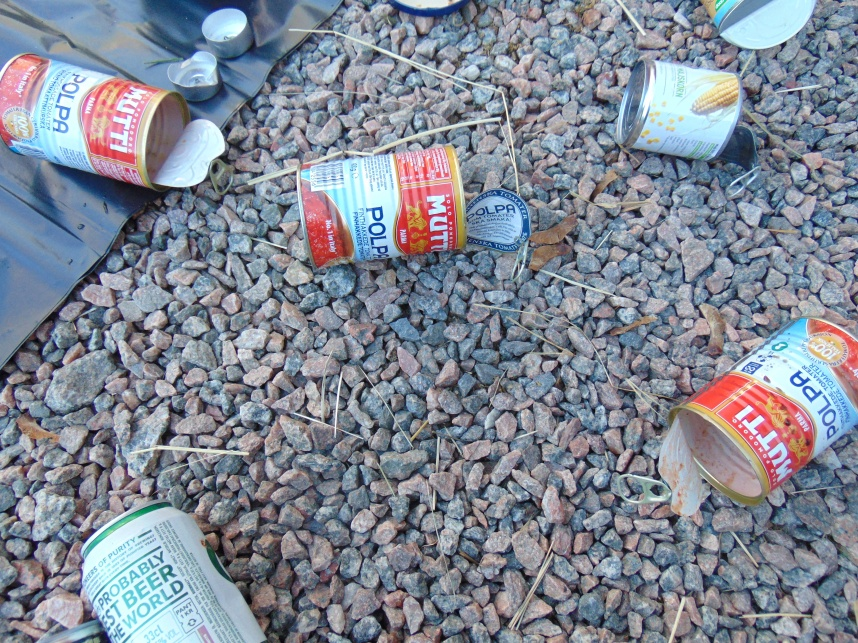metal: (617, 422, 710, 526), (468, 187, 533, 249), (200, 7, 262, 58), (167, 54, 225, 103), (387, 1, 469, 15)
metal_can: (666, 311, 858, 507), (1, 53, 194, 197), (78, 501, 271, 643), (294, 143, 471, 263), (614, 55, 740, 164), (696, 1, 816, 55)
